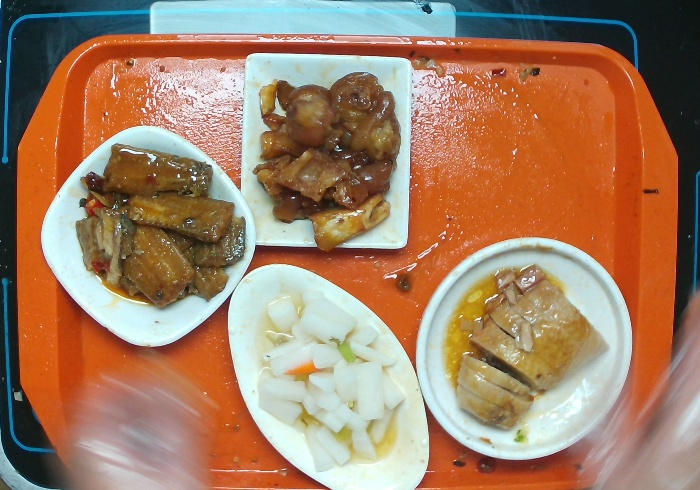HZYJPL-Si_Fang_Die: (238, 51, 412, 250)
HZYJPL-Si_Fang_Yuan_Die: (39, 123, 257, 349)
HZYJPL-Xiao_Yu_Die: (226, 262, 431, 490)
HZYJPL-Xiao_Yuan_Die: (413, 234, 634, 461)
